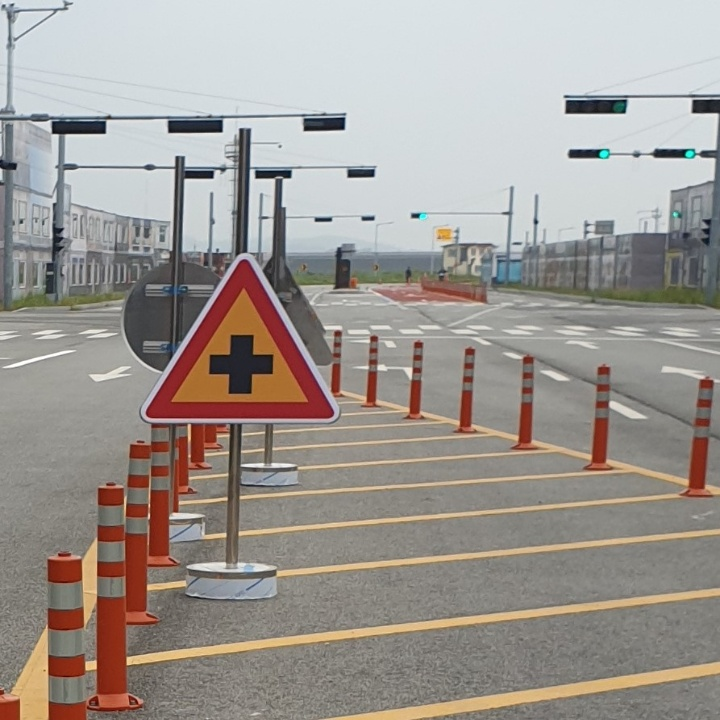inter: (207, 328, 276, 400)
